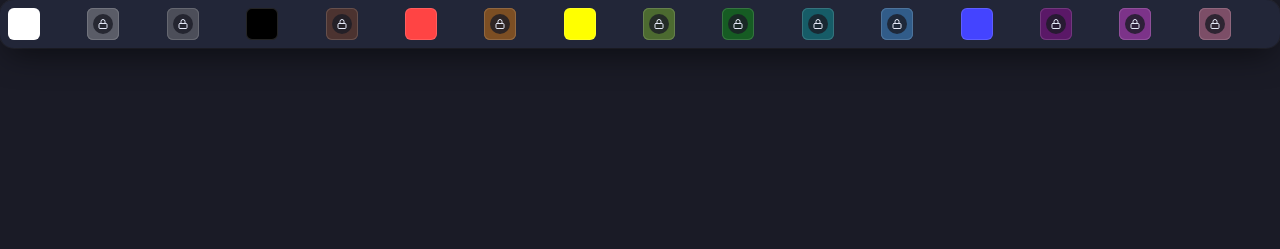
Test: <PaletteDock /> — couleurs verrouillées › une couleur verrouillée ne se sélectionne pas : elle explique comment la débloquer
Click the button named "Orange, verrouillée": (500,24) [484,8,516,40]
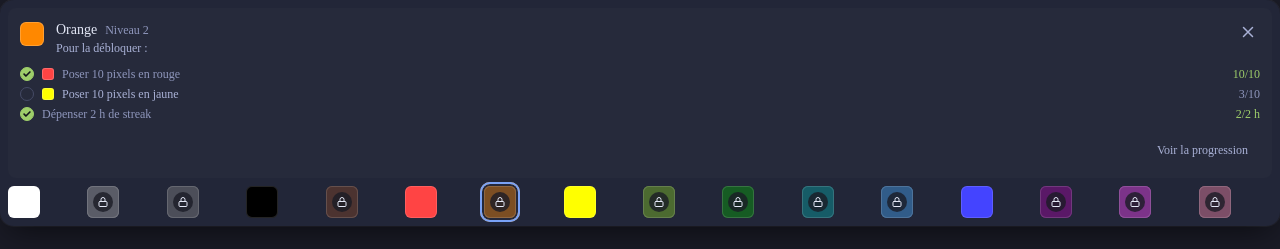
Expected: the element named "Débloquer le orange" shows "Poser 10 pixels en jaune", [62,87,179,101]
Expected: the element named "Débloquer le orange" shows "3/10", [1239,87,1260,101]
Expected: the element named "Débloquer le orange" shows "Dépenser 2 h de streak", [42,107,151,121]
